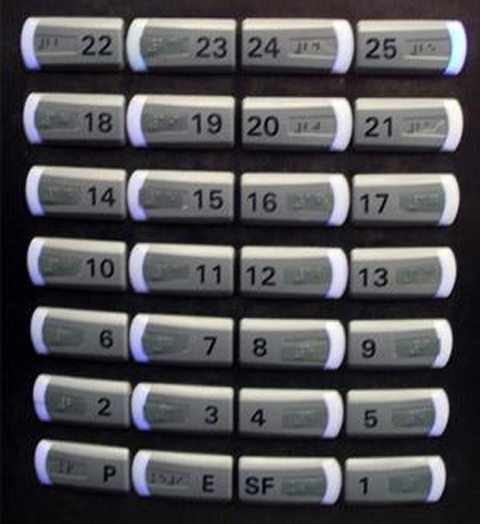1: (342, 455, 446, 508)
10: (25, 234, 129, 294)
11: (128, 240, 236, 299)
12: (236, 244, 349, 302)
13: (350, 244, 458, 303)
14: (24, 163, 129, 220)
15: (127, 166, 236, 225)
16: (236, 170, 351, 228)
17: (350, 172, 459, 229)
18: (20, 92, 128, 148)
19: (125, 90, 240, 150)
2: (31, 370, 135, 429)
20: (239, 92, 355, 154)
21: (354, 95, 464, 154)
22: (19, 16, 124, 72)
23: (124, 16, 239, 73)
24: (239, 16, 356, 76)
25: (356, 19, 469, 78)
3: (129, 380, 237, 437)
4: (236, 384, 344, 442)
5: (344, 386, 451, 440)
6: (27, 302, 133, 364)
7: (128, 312, 237, 369)
8: (236, 313, 347, 372)
9: (348, 318, 454, 372)
E: (131, 446, 235, 505)
P: (32, 436, 133, 495)
SF: (235, 453, 342, 509)
